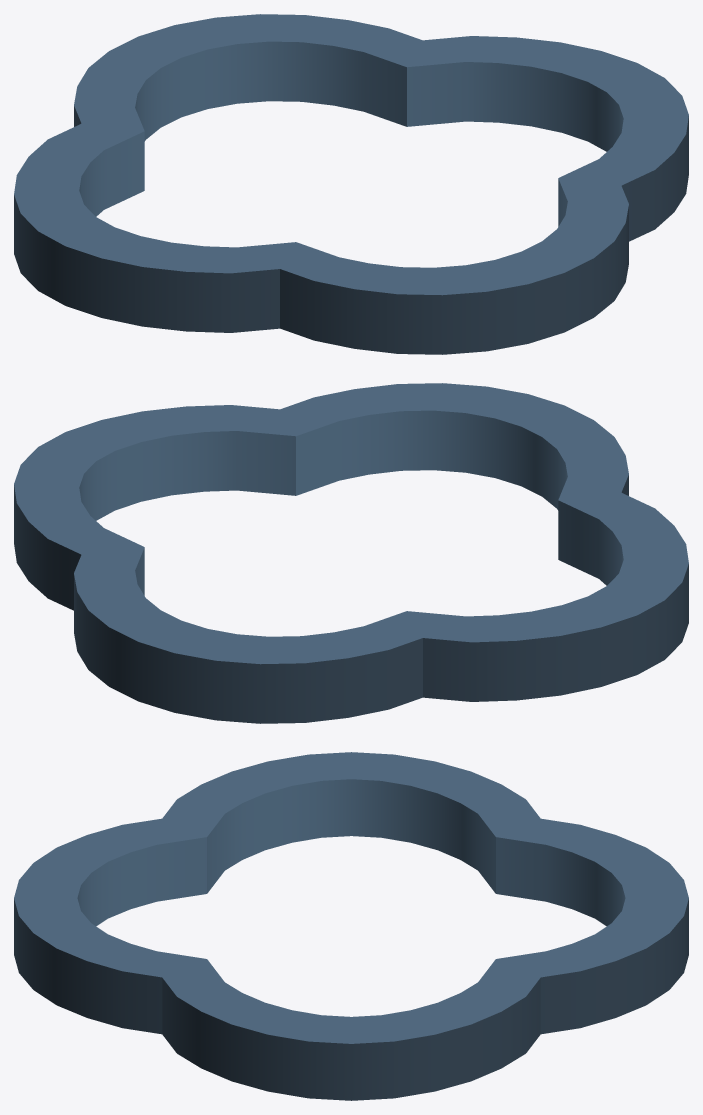
Rendered from Pepper Black Slice.fbx.
3 views of the same model, one above another, from view 1: azimuth 30°, elevation 25°; view 2: azimuth 150°, elevation 25°; view 3: azimuth 270°, elevation 25° (orthographic). The views are drawn at different scales.
Parts seen in each view (by area): view 1: Pepper Black Slice; view 2: Pepper Black Slice; view 3: Pepper Black Slice.
Boxes of the visible parts, x1,y1,x2,y2 form: Pepper Black Slice: [14, 14, 688, 354]; Pepper Black Slice: [14, 383, 688, 723]; Pepper Black Slice: [14, 752, 688, 1100].
Size of the model in its own units: 0.4942 by 0.0449 by 0.483.
